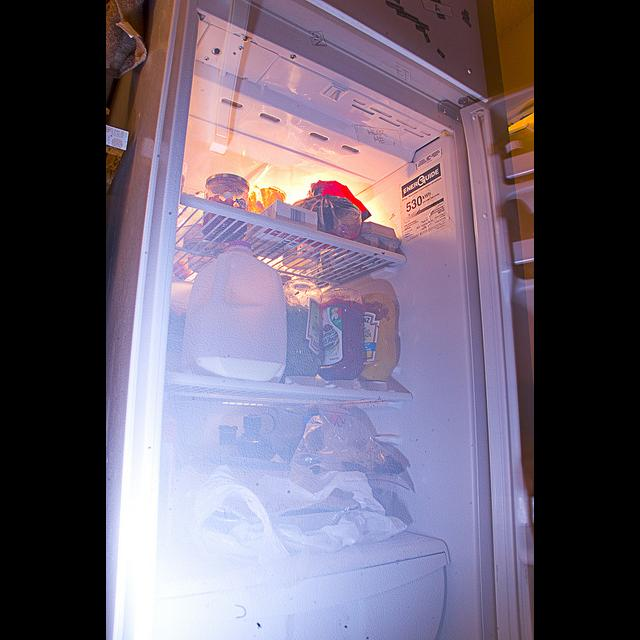Refrigerator: (109, 4, 534, 633)
